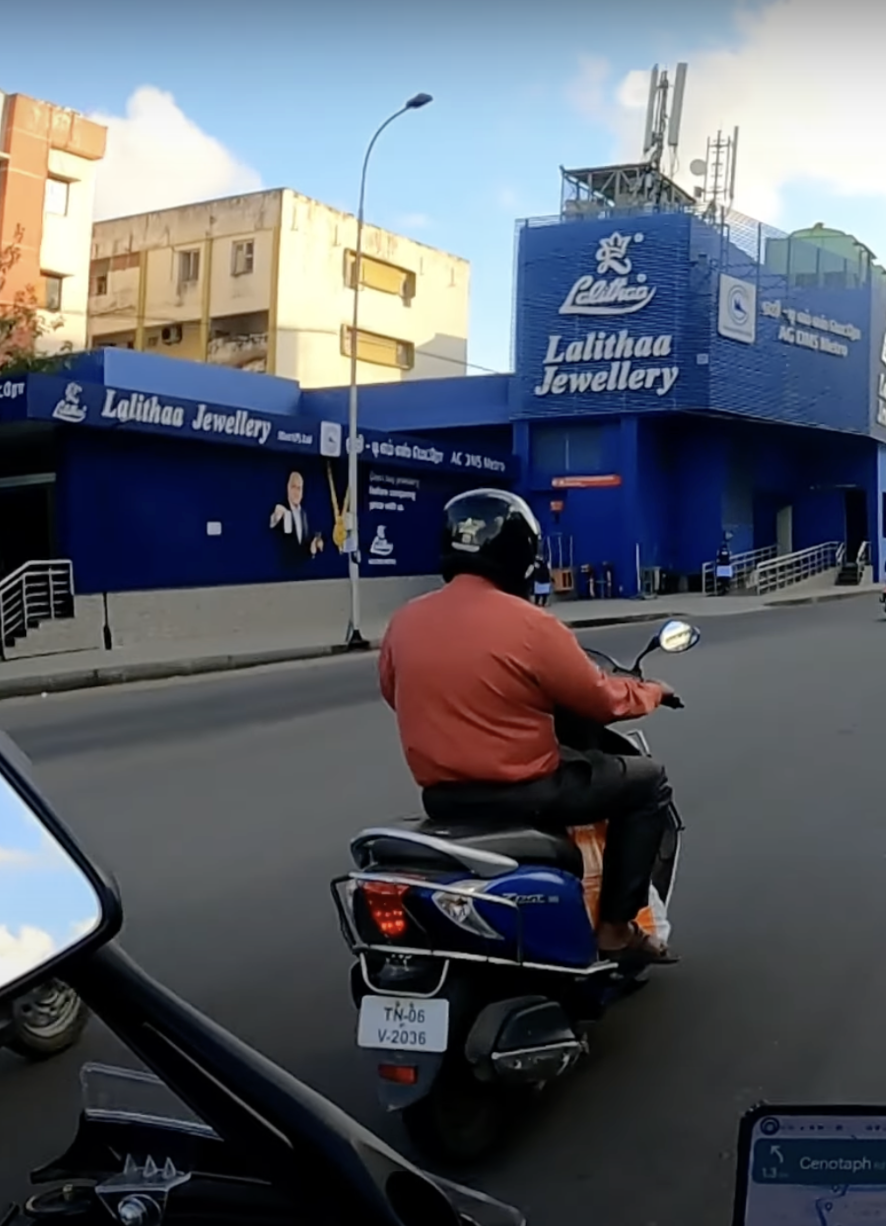motor: (317, 615, 703, 1110)
number: (358, 995, 450, 1051)
with helmet: (439, 484, 544, 585)
